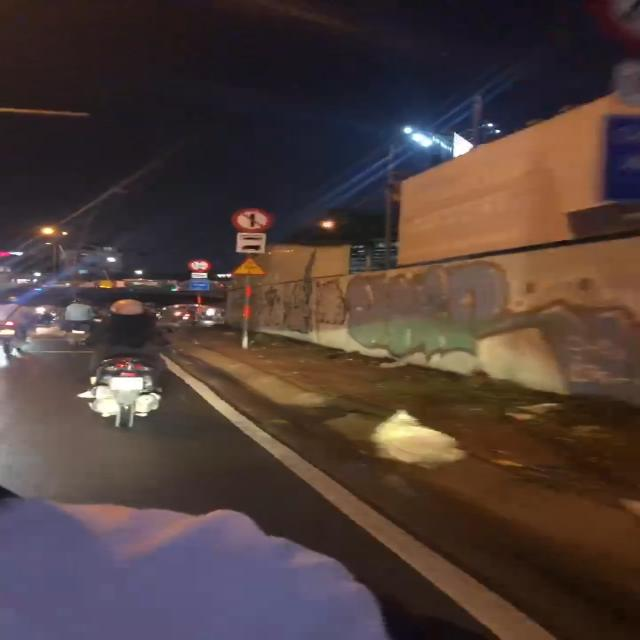Bien bao cam di thang: (228, 207, 280, 233)
